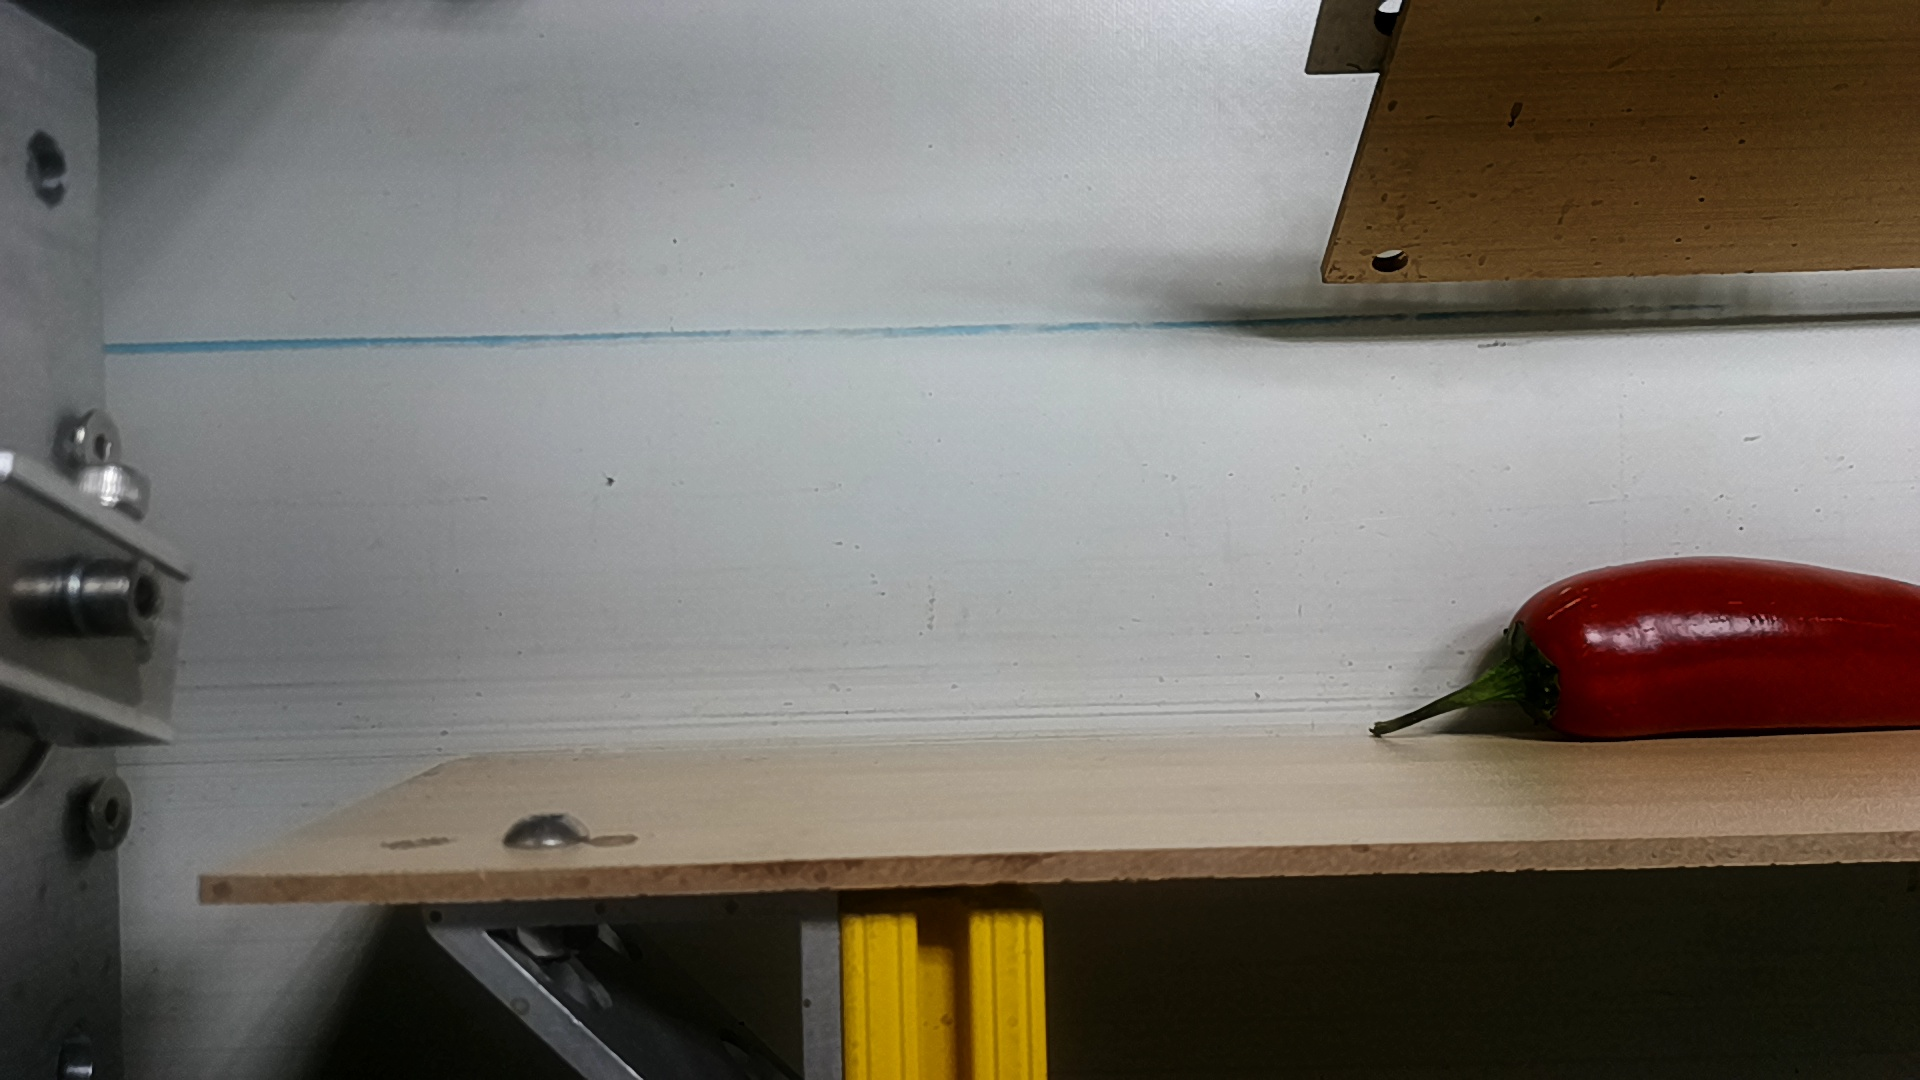Cut Point: (1484, 568, 1593, 736)
